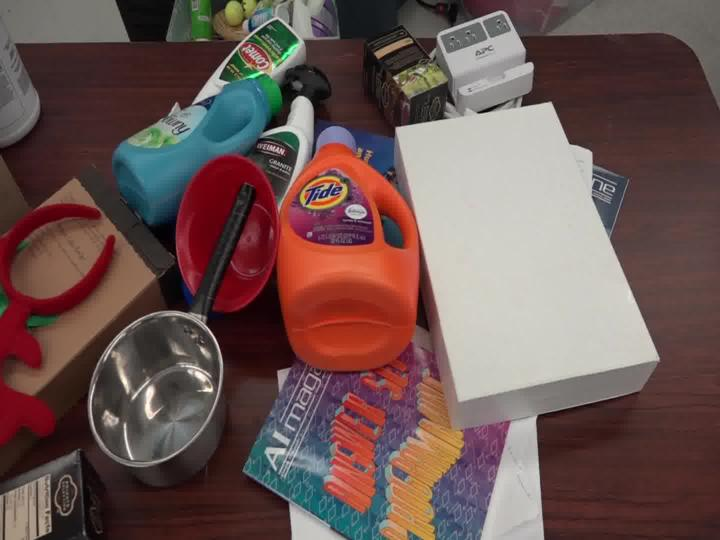tide: (252, 96, 442, 372)
